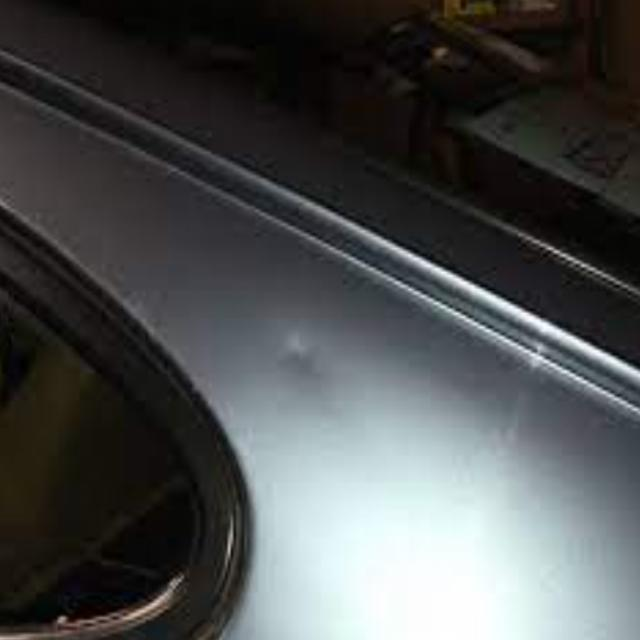dents: (265, 313, 339, 406)
